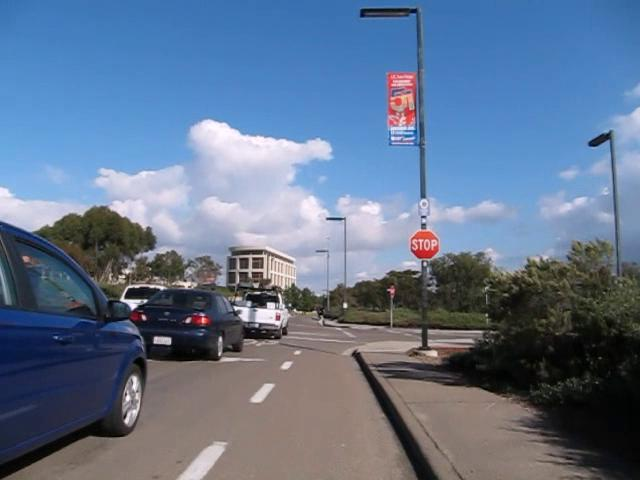stop: (409, 229, 440, 260)
